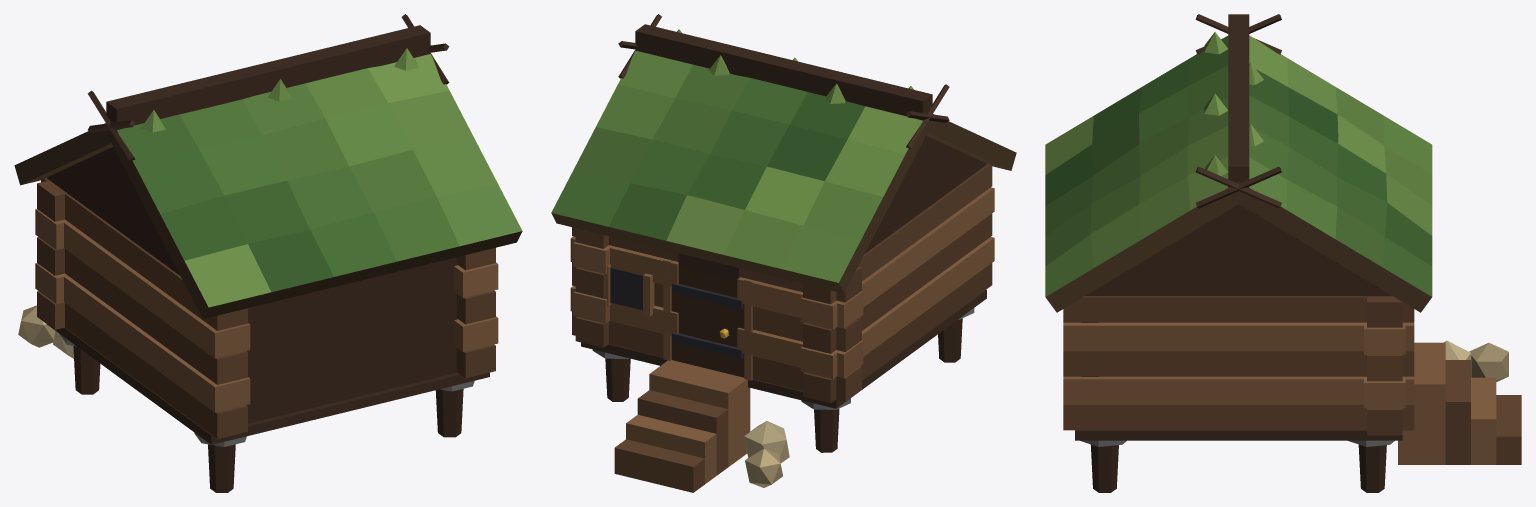
The model's file is Decor_VikingLonghouse_Storehouse.fbx.
3 views of the same model, side by side, from view 1: azimuth 30°, elevation 25°; view 2: azimuth 150°, elevation 25°; view 3: azimuth 270°, elevation 25° (orthographic). The views are drawn at different scales.
Parts seen in each view (by area): view 1: Storehouse_Body; view 2: Storehouse_Body; view 3: Storehouse_Body.
Part boxes in pixels (left/top/right/bottom): Storehouse_Body: left=14, top=14, right=522, bottom=492; Storehouse_Body: left=551, top=14, right=1016, bottom=492; Storehouse_Body: left=1045, top=14, right=1521, bottom=492.
Bounding box in the file's own units: 12.4 × 13.16 × 16.05.
